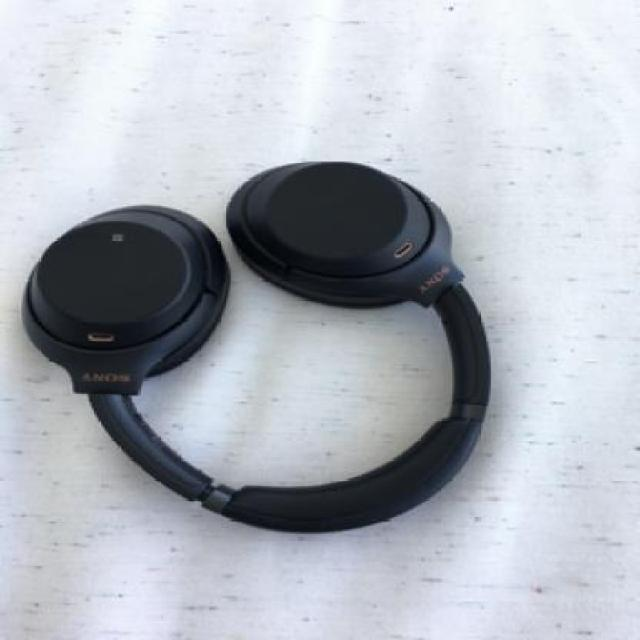earphone: (24, 92, 514, 570)
